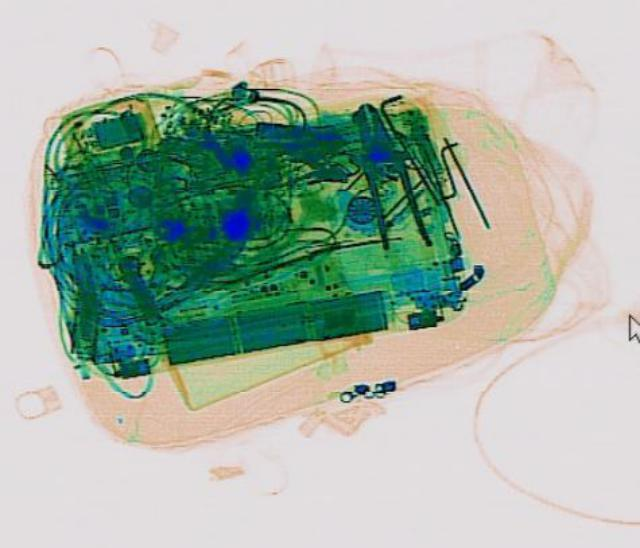Pliers: (341, 96, 432, 251)
